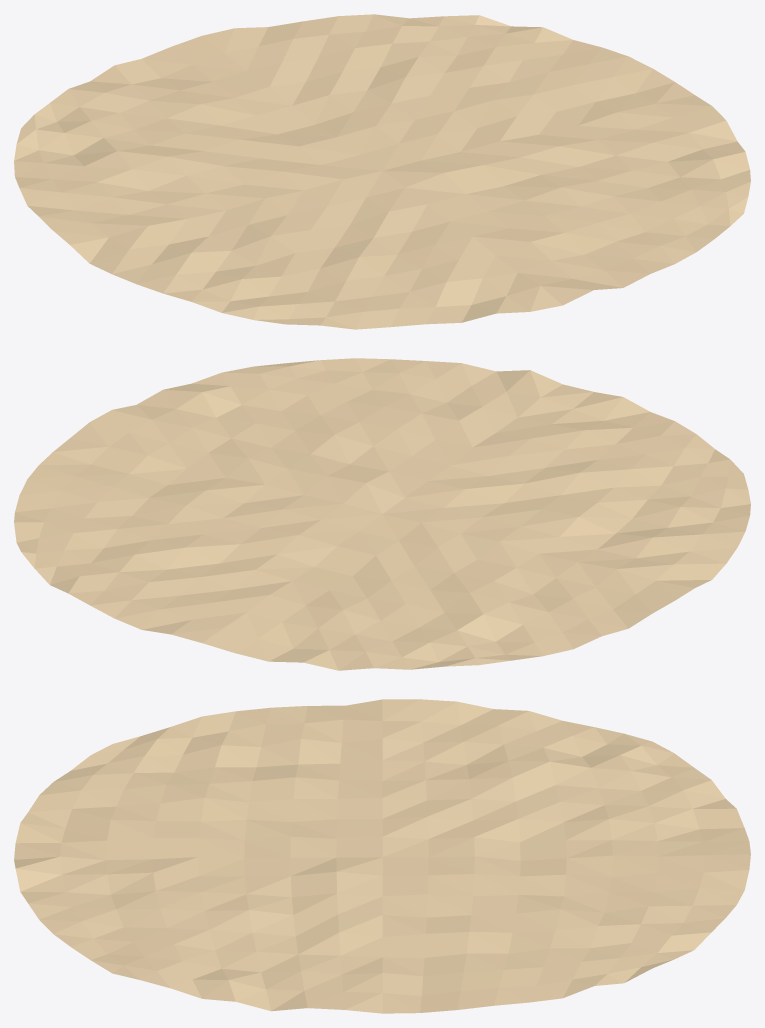
File: plage.obj
3 renders of one model, top to bottom at view 1: azimuth 30°, elevation 25°; view 2: azimuth 150°, elevation 25°; view 3: azimuth 270°, elevation 25°, orthographic. The views are drawn at different scales.
Parts seen in each view (by area): view 1: Plage; view 2: Plage; view 3: Plage.
Part boxes in pixels (x1,y1,x2,y2): Plage: (14, 14, 750, 329); Plage: (14, 358, 750, 670); Plage: (14, 699, 750, 1013).
Bounding box in the file's own units: 4.58 × 0.0687 × 4.58.
